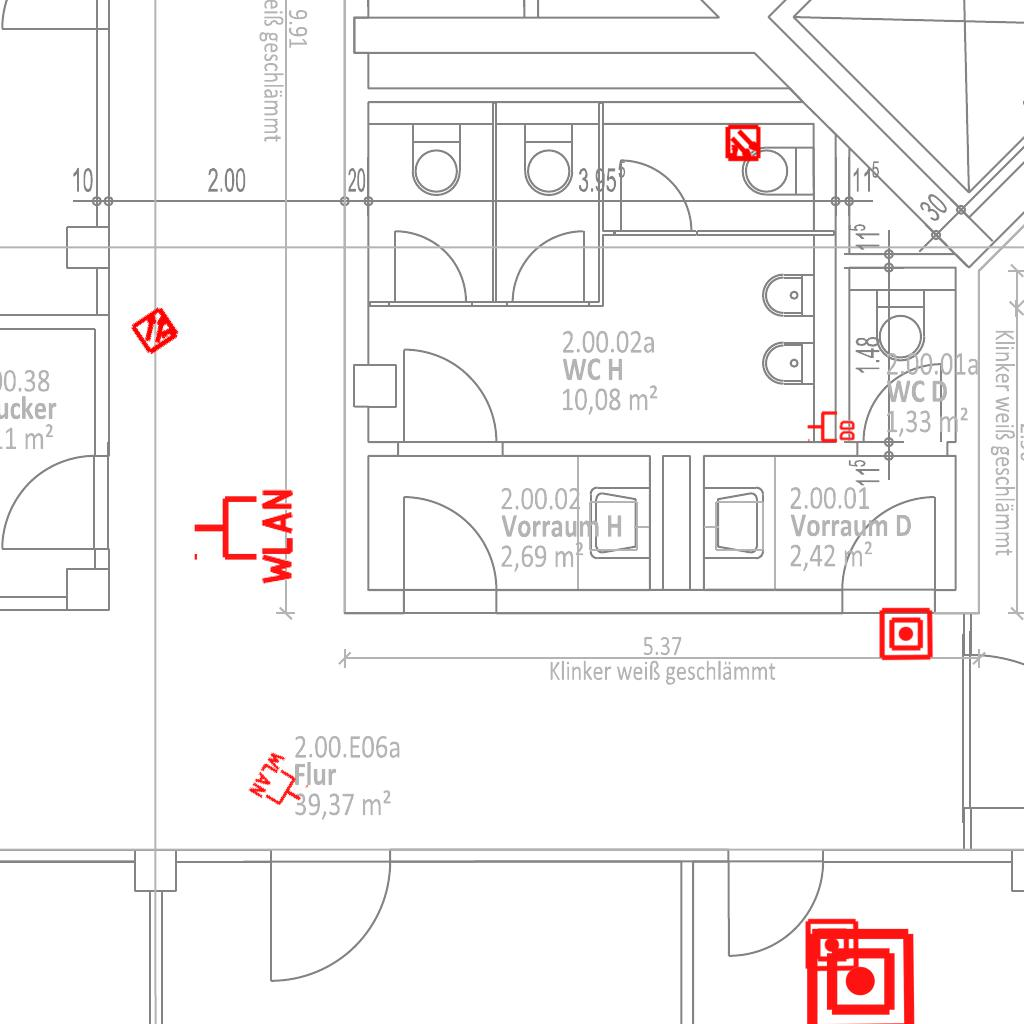Datenanschluss_zweifach: (806, 409, 857, 443)
NAM-Nichtautomatischer_Melder: (804, 925, 917, 1024), (804, 917, 860, 973), (878, 606, 934, 662)
OT_Multisensormelder_(Kombination_RMO_WMD): (117, 291, 195, 369), (715, 116, 771, 172)
WLAN: (190, 485, 295, 589), (246, 747, 318, 819)
